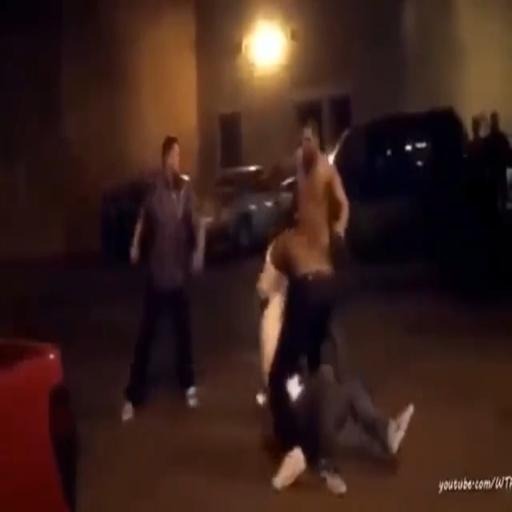violencia: (240, 110, 420, 506)
